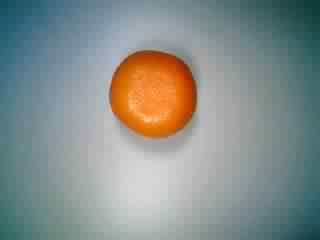orange: (107, 47, 203, 143)
